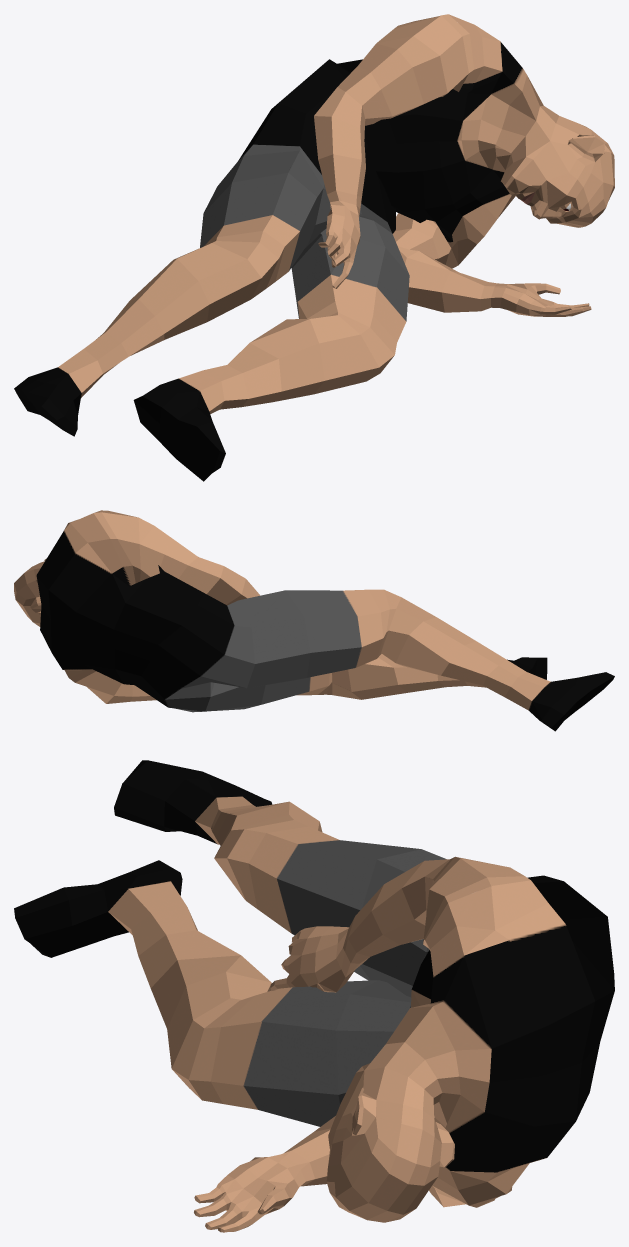
File: PlayerDead(71).obj
The picture shows the model from 3 angles, top to bottom: view 1: azimuth 30°, elevation 25°; view 2: azimuth 150°, elevation 25°; view 3: azimuth 270°, elevation 25°; orthographic projection. The views are drawn at different scales.
Visible parts, largest first — view 1: Plane002; view 2: Plane002; view 3: Plane002.
Boxes of the visible parts, left/top/right/bottom form: Plane002: left=14, top=14, right=614, bottom=481; Plane002: left=14, top=510, right=614, bottom=731; Plane002: left=14, top=760, right=614, bottom=1232.
Size of the model in its own units: 1580 by 570 by 899.
